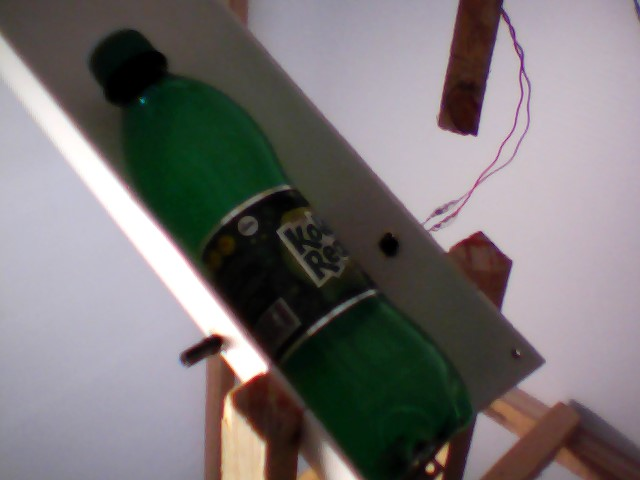plastico: (79, 24, 481, 480)
